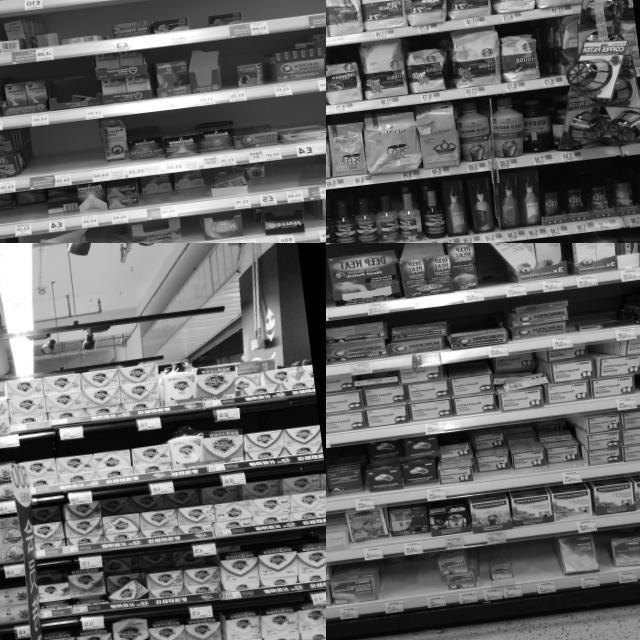Imprecise: (105, 546, 220, 606), (478, 418, 582, 464), (178, 482, 242, 533), (141, 170, 209, 208), (496, 354, 545, 406), (245, 477, 289, 527), (284, 468, 324, 522), (102, 493, 140, 543), (140, 491, 176, 540), (0, 189, 46, 225), (33, 504, 63, 552), (102, 115, 128, 169), (246, 159, 266, 193), (490, 559, 519, 582)
